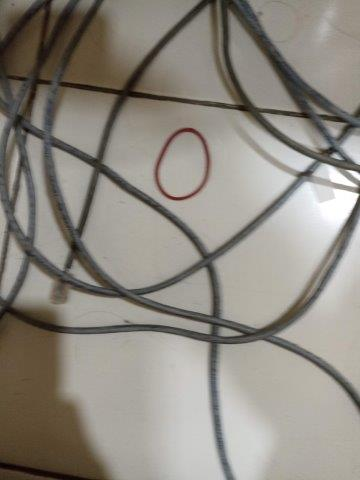karet: (153, 127, 211, 201)
